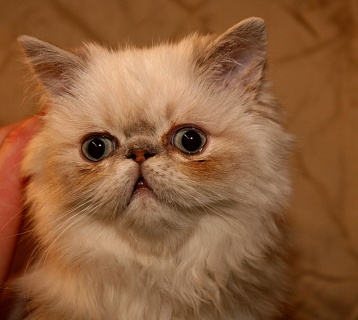Cat: (0, 14, 298, 320)
